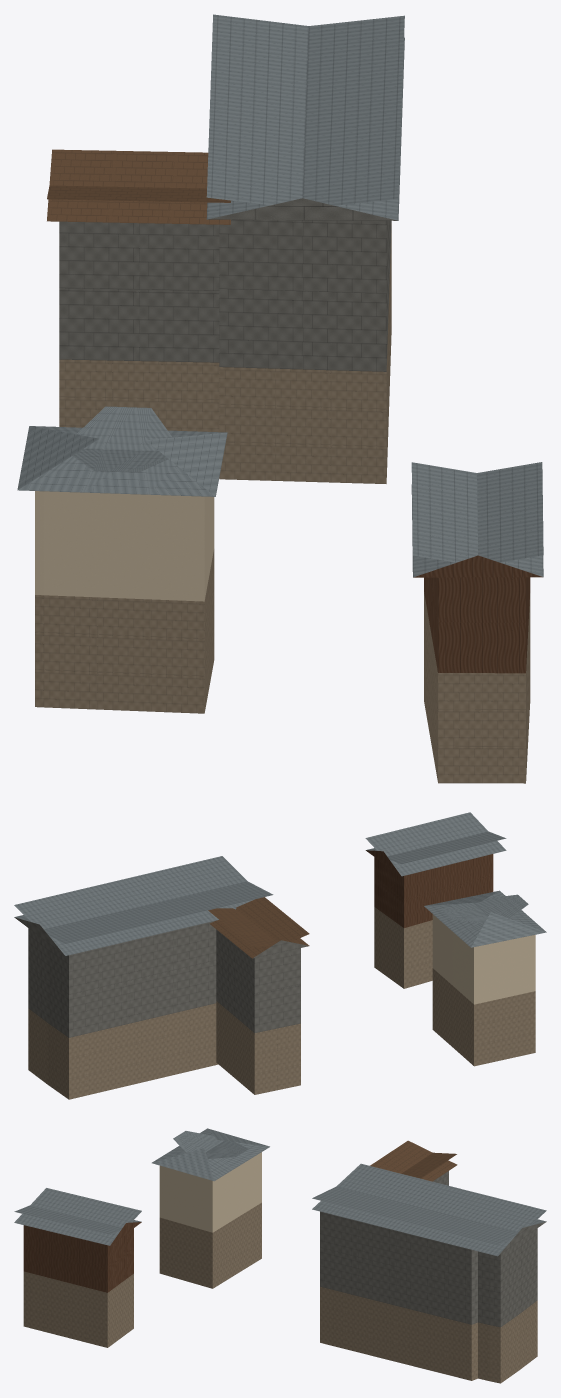
File: bld_c3_16_460.gltf
3 renders of one model, top to bottom at view 1: azimuth 30°, elevation 25°; view 2: azimuth 150°, elevation 25°; view 3: azimuth 270°, elevation 25°, orthographic. The views are drawn at different scales.
Visible parts, largest first — view 1: bld_c3_16_460; view 2: bld_c3_16_460; view 3: bld_c3_16_460.
Part boxes in pixels (x1,y1,x2,y2): bld_c3_16_460: (17, 14, 543, 783); bld_c3_16_460: (14, 812, 546, 1099); bld_c3_16_460: (14, 1128, 546, 1383).
Bounding box in the file's own units: 32.23 × 15.2 × 43.9.
Materials: 8 (8 with a texture image).
